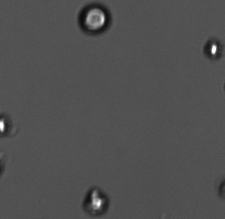Living Cell: (78, 4, 111, 35), (83, 187, 108, 215), (203, 38, 223, 59)
